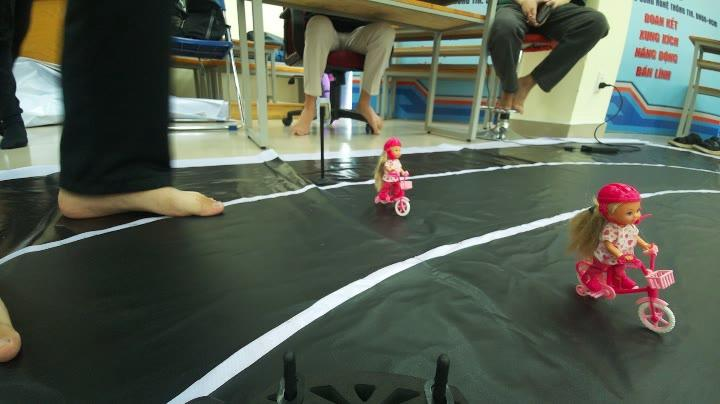pedestrian: (572, 175, 684, 346), (371, 141, 422, 213)
